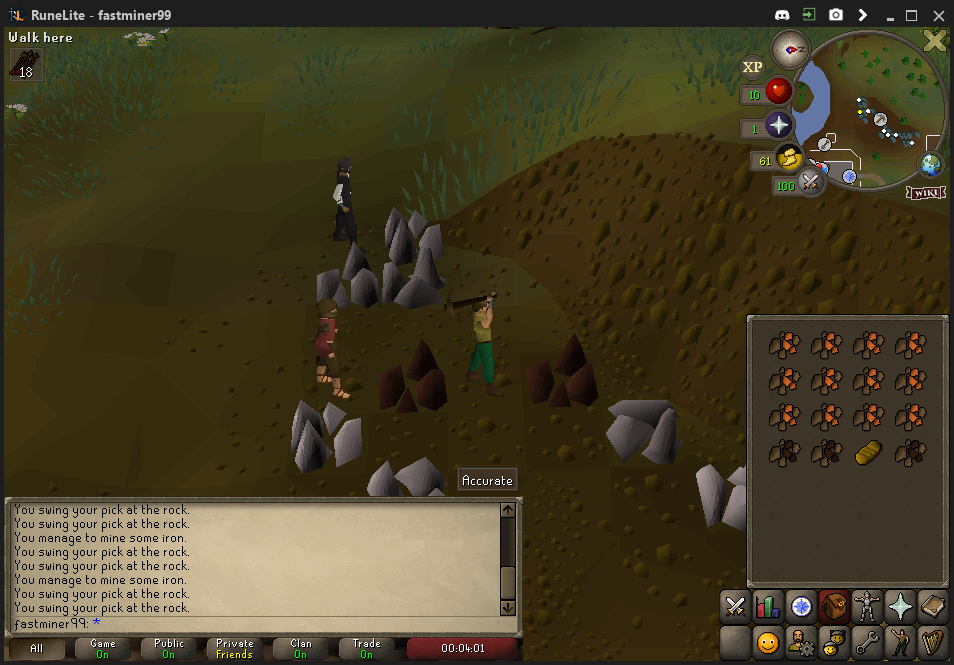ore: (524, 328, 598, 407), (376, 334, 448, 410)
